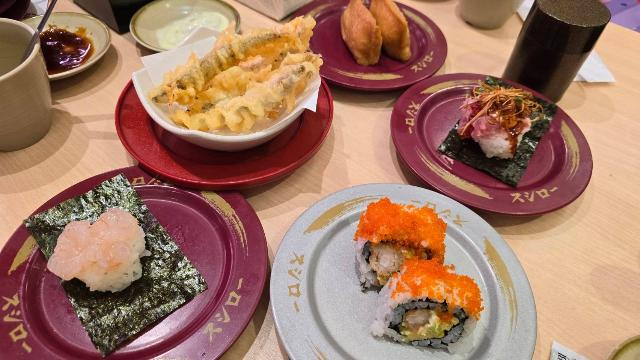janred: (0, 191, 242, 353), (117, 57, 360, 178), (415, 71, 570, 210), (279, 0, 432, 92)
janwhite: (272, 201, 530, 360)
